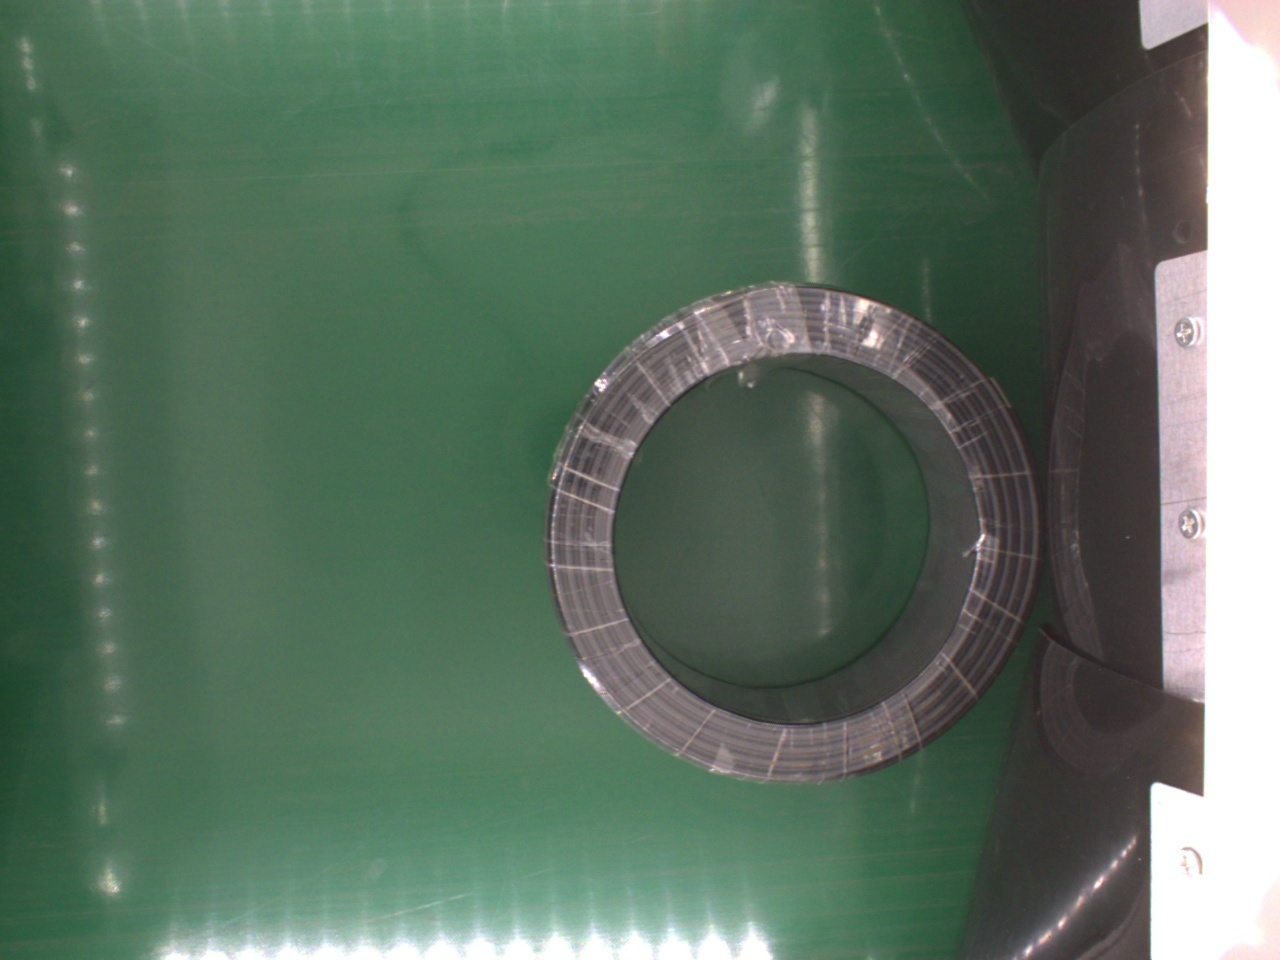black: (541, 289, 1043, 787)
